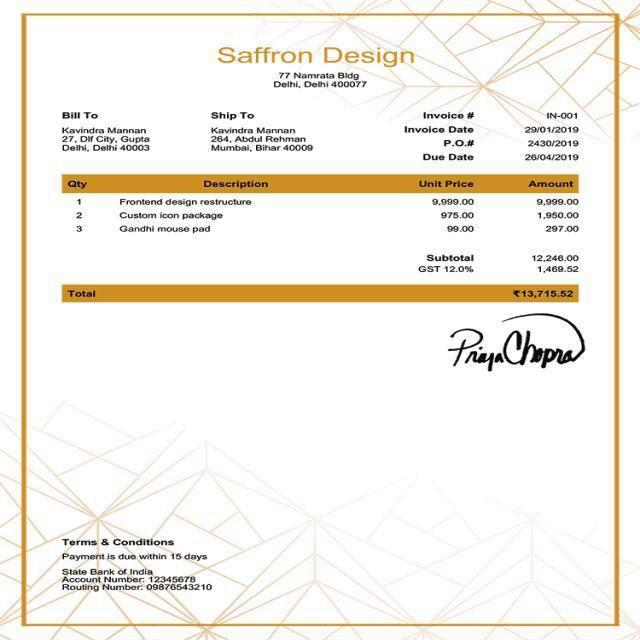paragraph: (398, 102, 591, 163), (58, 284, 586, 304), (442, 309, 596, 372), (40, 94, 170, 159), (192, 97, 327, 156), (33, 527, 237, 563), (213, 38, 419, 68), (412, 246, 586, 280), (40, 568, 223, 595), (273, 71, 371, 94)
table: (56, 170, 595, 237)
